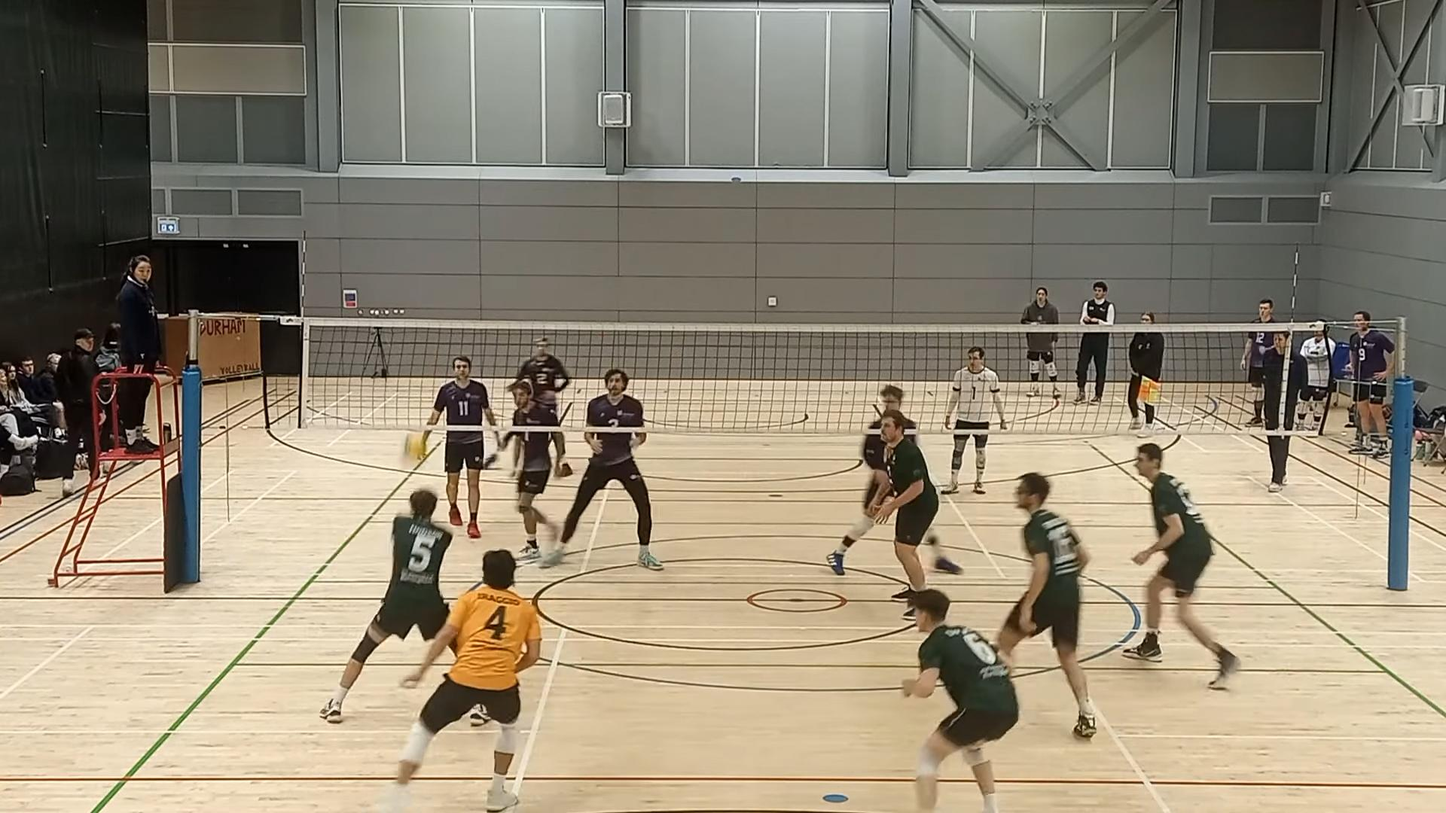ricezione: (321, 491, 492, 722)
